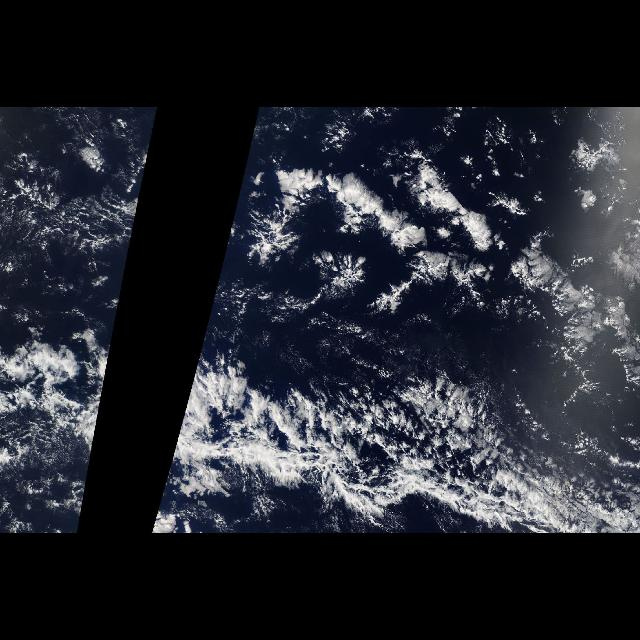Fish: (149, 338, 639, 532), (2, 338, 112, 532)
Flower: (232, 146, 640, 334)
